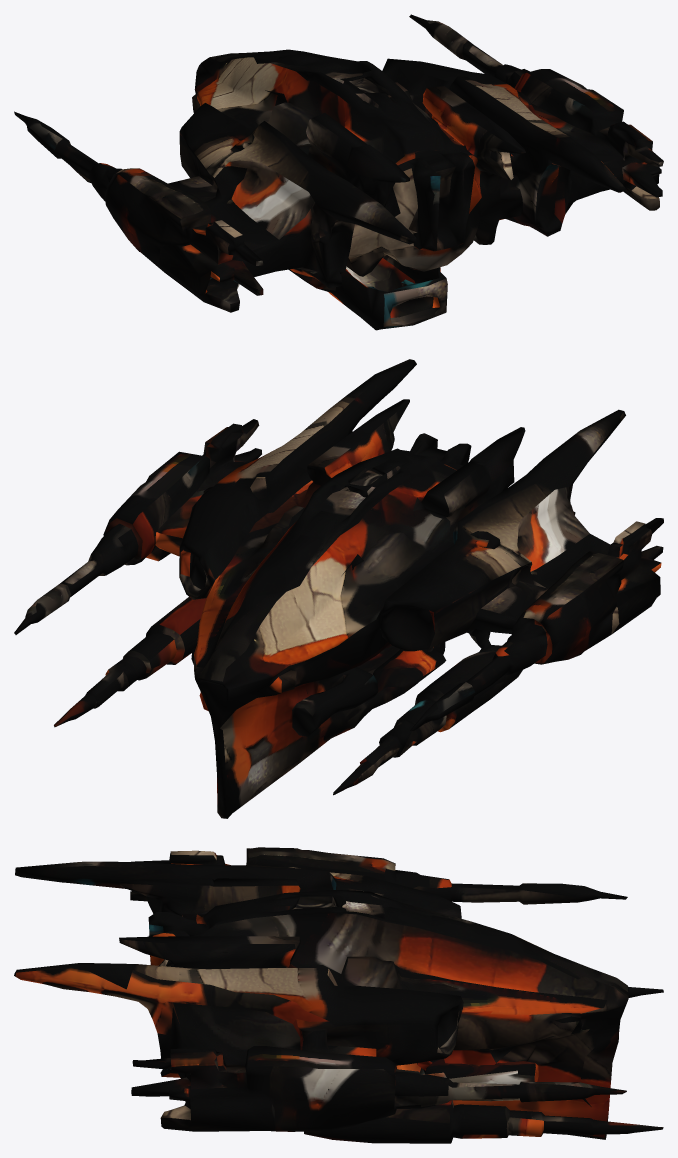
File: NormalShip.fbx
3 renders of one model, top to bottom at view 1: azimuth 30°, elevation 25°; view 2: azimuth 150°, elevation 25°; view 3: azimuth 270°, elevation 25°, orthographic.
Visible parts, largest first — view 1: node_36039fbc_19b4_4aef_8e76_5f31e995cd00_mesh0; view 2: node_36039fbc_19b4_4aef_8e76_5f31e995cd00_mesh0; view 3: node_36039fbc_19b4_4aef_8e76_5f31e995cd00_mesh0.
Part boxes in pixels (x1,y1,x2,y2): node_36039fbc_19b4_4aef_8e76_5f31e995cd00_mesh0: (14,14,663,330); node_36039fbc_19b4_4aef_8e76_5f31e995cd00_mesh0: (14,359,663,818); node_36039fbc_19b4_4aef_8e76_5f31e995cd00_mesh0: (14,847,663,1143).
Size of the model in its own units: 82.97 by 40.54 by 100.
